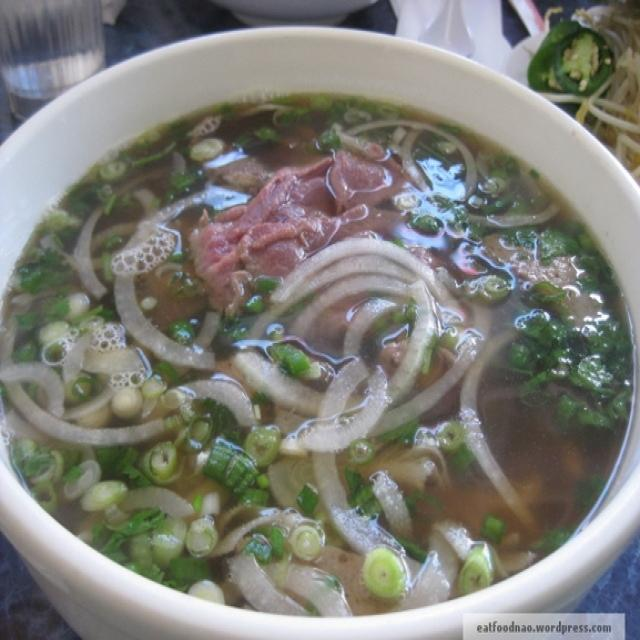面条主食: (10, 13, 629, 612)
